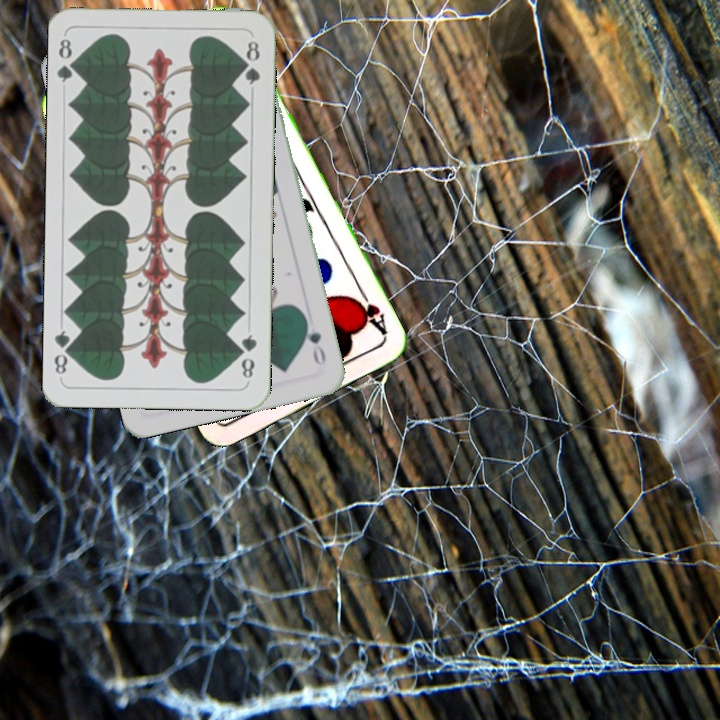G8: (54, 35, 81, 85), (235, 330, 260, 381)
GO: (300, 313, 329, 369)
HA: (349, 284, 391, 339)
